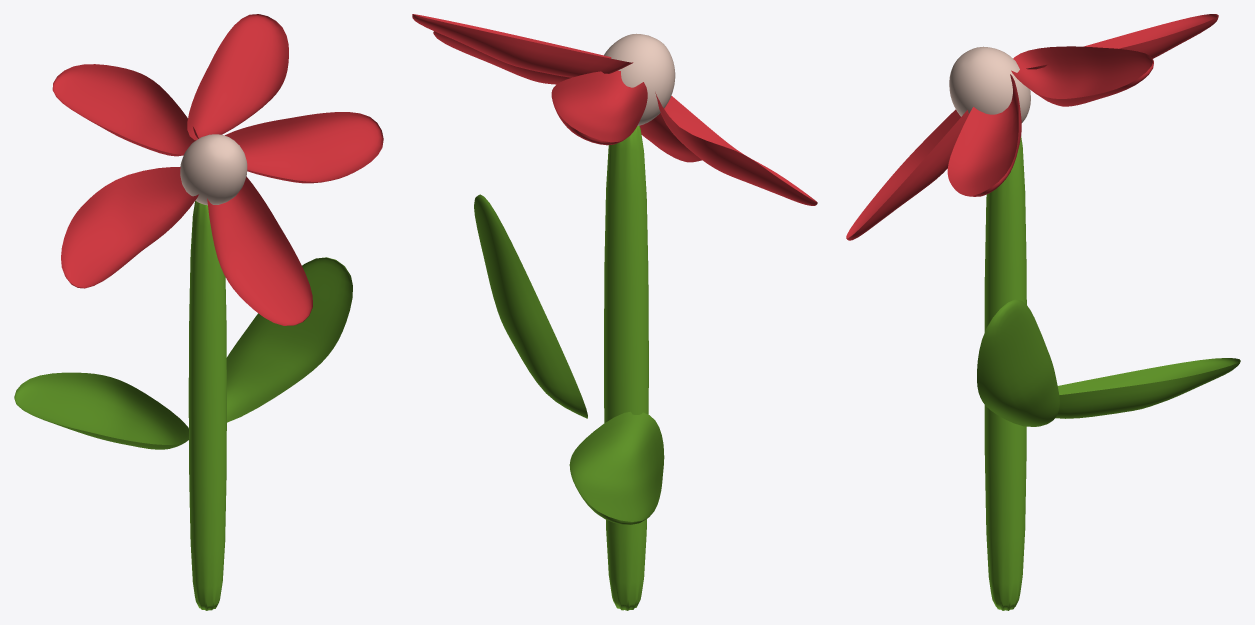
File: red_flower.fbx
3 views of the same model, side by side, from view 1: azimuth 30°, elevation 25°; view 2: azimuth 150°, elevation 25°; view 3: azimuth 270°, elevation 25° (orthographic). The views are drawn at different scales.
Parts seen in each view (by area): view 1: polySurface67; view 2: polySurface67; view 3: polySurface67.
Boxes of the visible parts, x1,y1,x2,y2 form: polySurface67: (14, 14, 383, 610); polySurface67: (412, 14, 817, 610); polySurface67: (846, 14, 1240, 610).
Size of the model in its own units: 2.24 by 3.48 by 2.06.
